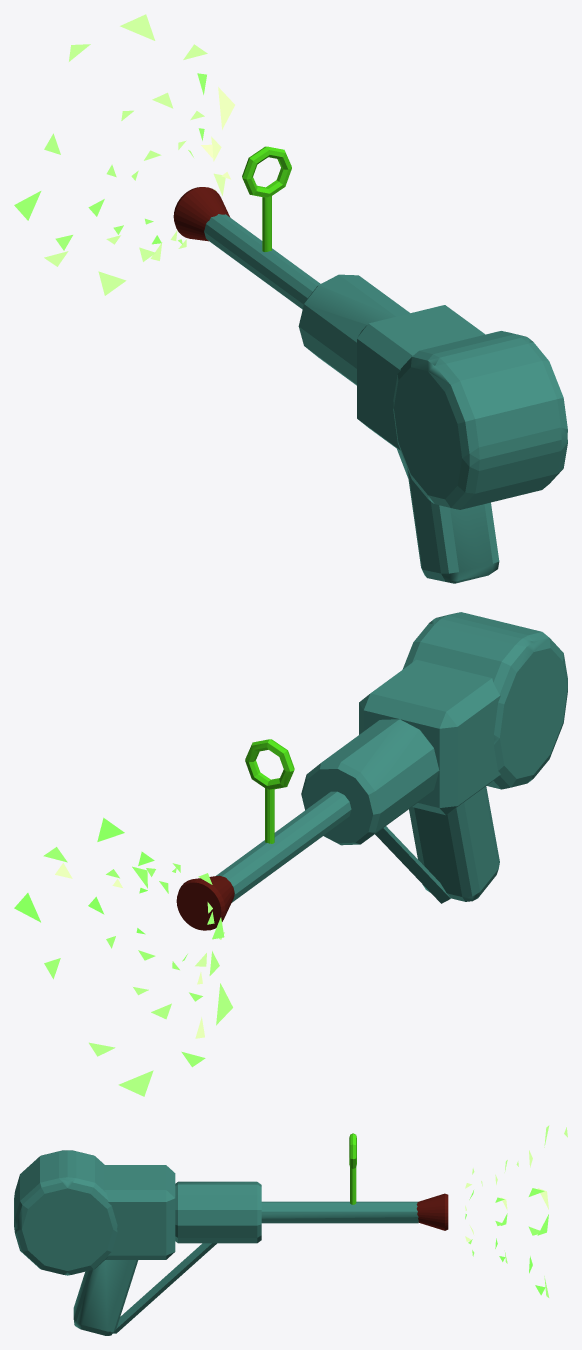
File: rayGun.glb
3 views of the same model, one above another, from view 1: azimuth 30°, elevation 25°; view 2: azimuth 150°, elevation 25°; view 3: azimuth 270°, elevation 25° (orthographic). The views are drawn at different scales.
Visible parts, largest first — view 1: rayGun.001, explode, Cone, rayGun.003; view 2: rayGun.001, explode, Cone, rayGun.003; view 3: rayGun.001, explode, Cone, rayGun.003.
Part boxes in pixels (x1,y1,x2,y2): rayGun.001: (204, 214, 567, 583); explode: (14, 14, 234, 295); Cone: (173, 187, 230, 241); rayGun.003: (242, 146, 291, 251); rayGun.001: (216, 612, 567, 903); explode: (14, 817, 232, 1096); Cone: (176, 875, 234, 930); rayGun.003: (245, 739, 294, 843); rayGun.001: (14, 1150, 418, 1335); explode: (465, 1125, 567, 1297); Cone: (416, 1193, 448, 1230); rayGun.003: (349, 1133, 356, 1204).
Bounding box in the file's own units: 0.2053 × 0.2815 × 0.6655.
